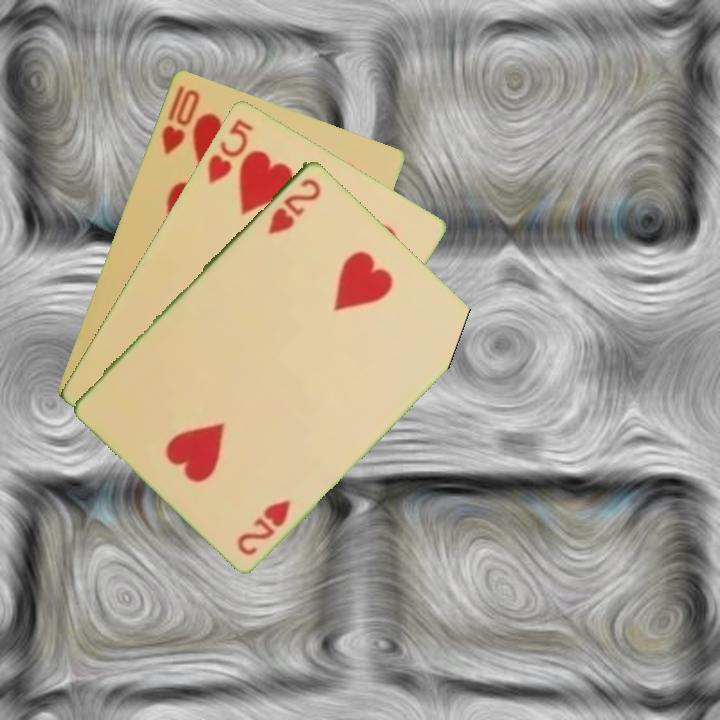10h: (157, 81, 203, 157)
2h: (233, 495, 294, 558), (264, 174, 324, 237)
5h: (203, 114, 256, 186)
